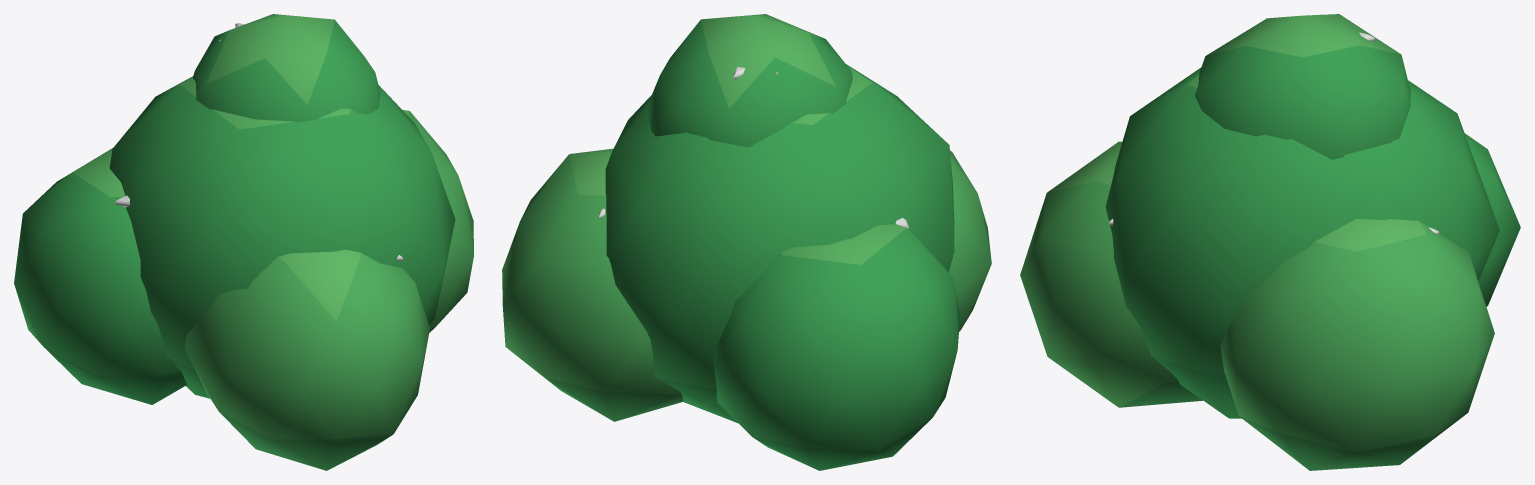
Rendered from mint-bush.glb.
The picture shows the model from 3 angles, left to right: view 1: azimuth 30°, elevation 25°; view 2: azimuth 150°, elevation 25°; view 3: azimuth 270°, elevation 25°; orthographic projection. The views are drawn at different scales.
Parts seen in each view (by area): view 1: mint-bush; view 2: mint-bush; view 3: mint-bush.
Part boxes in pixels (x1,y1,x2,y2): mint-bush: [14, 14, 473, 470]; mint-bush: [502, 14, 991, 470]; mint-bush: [1020, 14, 1520, 470].
Bounding box in the file's own units: 0.9 × 0.8 × 0.9.
